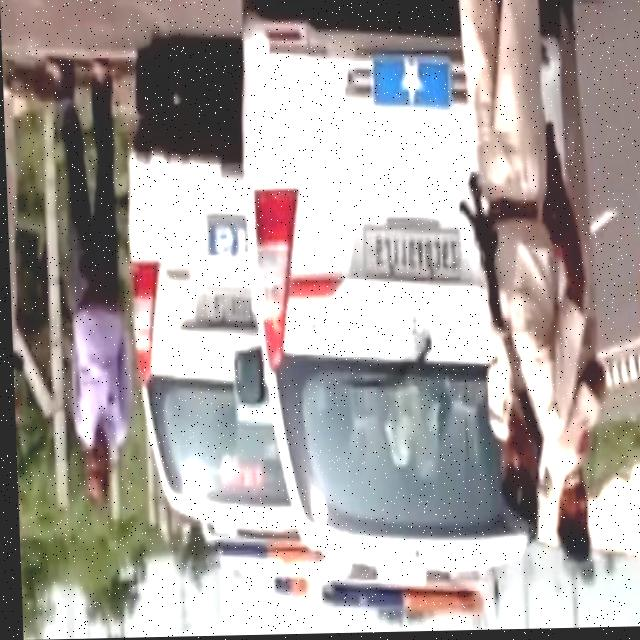plate: (354, 226, 466, 284), (194, 290, 258, 329)
